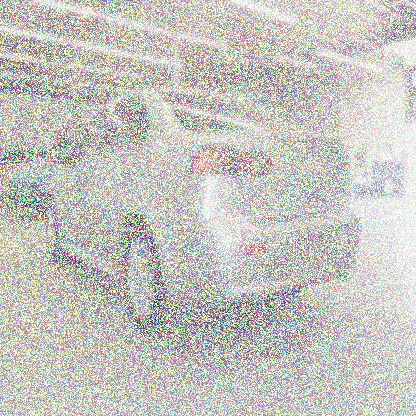Vehicle: (43, 88, 361, 336)
